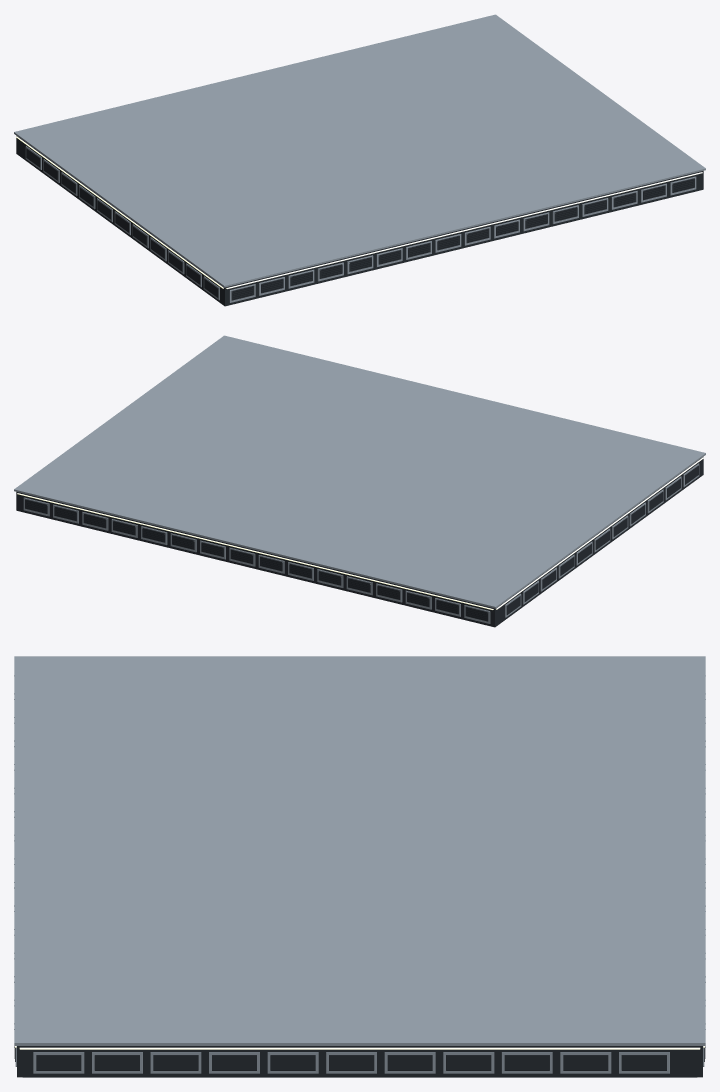
File: platform.glb
3 renders of one model, top to bottom at view 1: azimuth 30°, elevation 25°; view 2: azimuth 150°, elevation 25°; view 3: azimuth 270°, elevation 25°, orthographic. The views are drawn at different scales.
Visible parts, largest first — view 1: body_steel.156, body_dark.147, body_rubber.014, body_warm.102; view 2: body_steel.156, body_dark.147, body_rubber.014, body_warm.102; view 3: body_steel.156, body_dark.147, body_warm.102.
Part boxes in pixels (x1,y1,x2,y2): body_steel.156: [14, 14, 705, 302]; body_dark.147: [16, 136, 703, 306]; body_rubber.014: [233, 180, 693, 299]; body_warm.102: [16, 136, 702, 288]; body_steel.156: [14, 335, 705, 623]; body_dark.147: [16, 457, 703, 627]; body_rubber.014: [26, 501, 486, 620]; body_warm.102: [17, 457, 703, 609]; body_steel.156: [14, 656, 705, 1077]; body_dark.147: [15, 1046, 704, 1077]; body_warm.102: [15, 1046, 704, 1049].
Bounding box in the file's own units: 32.8 × 1.71 × 24.82.
